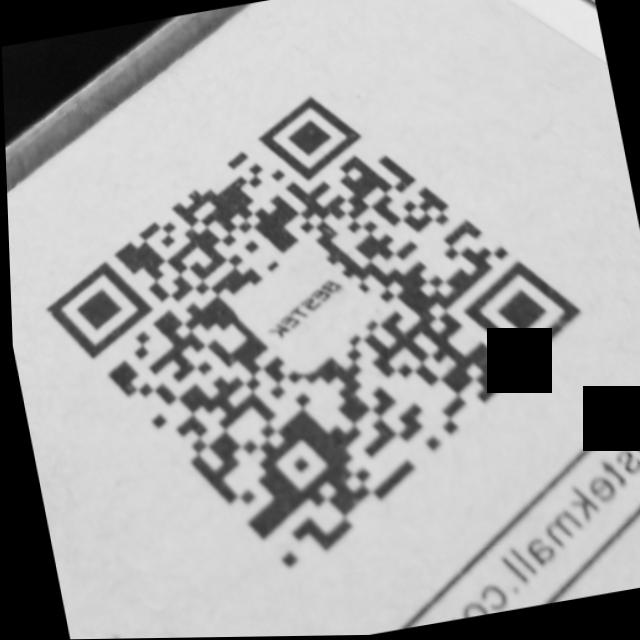QR_CODE: (4, 37, 632, 615)
